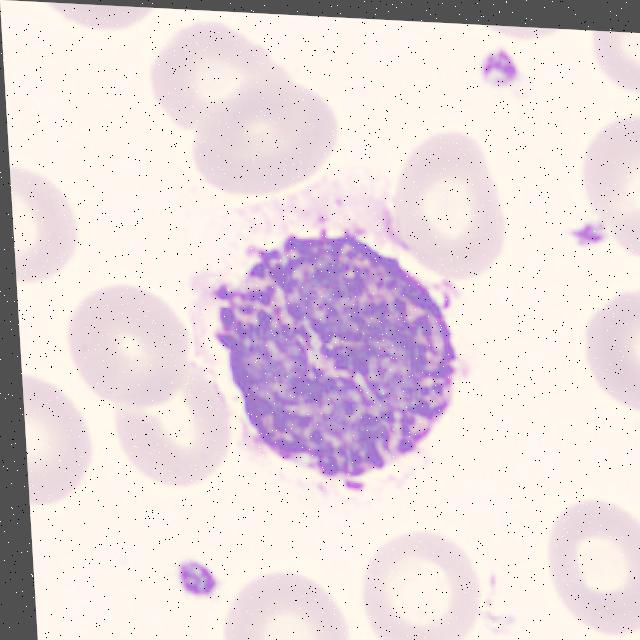basophil: (196, 218, 476, 511)
platelets: (166, 551, 217, 600), (475, 46, 522, 93), (564, 216, 611, 254)
rbc: (372, 126, 515, 292), (191, 87, 351, 204), (114, 375, 232, 520), (65, 277, 190, 411), (349, 524, 485, 640), (534, 493, 640, 640), (142, 24, 289, 129), (565, 275, 640, 430), (23, 381, 101, 530), (210, 567, 347, 640), (10, 167, 92, 287), (16, 1, 172, 52), (584, 110, 640, 248), (588, 30, 640, 97), (476, 25, 564, 49)
